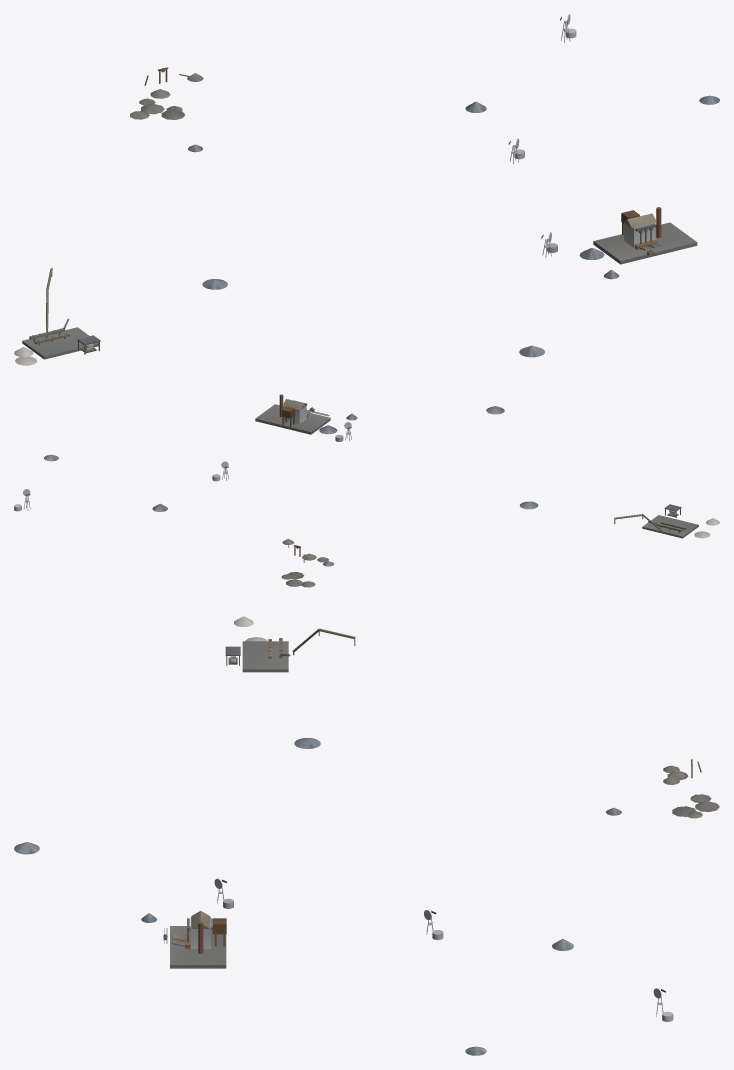
Rendered from Theme_P1.fbx.
3 views of the same model, one above another, from view 1: azimuth 30°, elevation 25°; view 2: azimuth 150°, elevation 25°; view 3: azimuth 270°, elevation 25° (orthographic). The views are drawn at different scales.
Visible parts, largest first — view 1: Theme.StampMill, Theme.Sluices, Theme.Diggings; view 2: Theme.StampMill, Theme.Sluices, Theme.Diggings; view 3: Theme.StampMill, Theme.Sluices, Theme.Diggings.
Part boxes in pixels (box(x1,y1,x2,y2)): Theme.StampMill: box(593, 207, 697, 264); Theme.Sluices: box(22, 318, 98, 359); Theme.Diggings: box(130, 67, 203, 119); Theme.StampMill: box(255, 394, 330, 434); Theme.Sluices: box(642, 515, 698, 538); Theme.Diggings: box(281, 538, 328, 587); Theme.StampMill: box(170, 910, 226, 968); Theme.Sluices: box(242, 638, 290, 672); Theme.Diggings: box(663, 759, 719, 818).
Size of the model in its own units: 38222 by 2868 by 27651.
